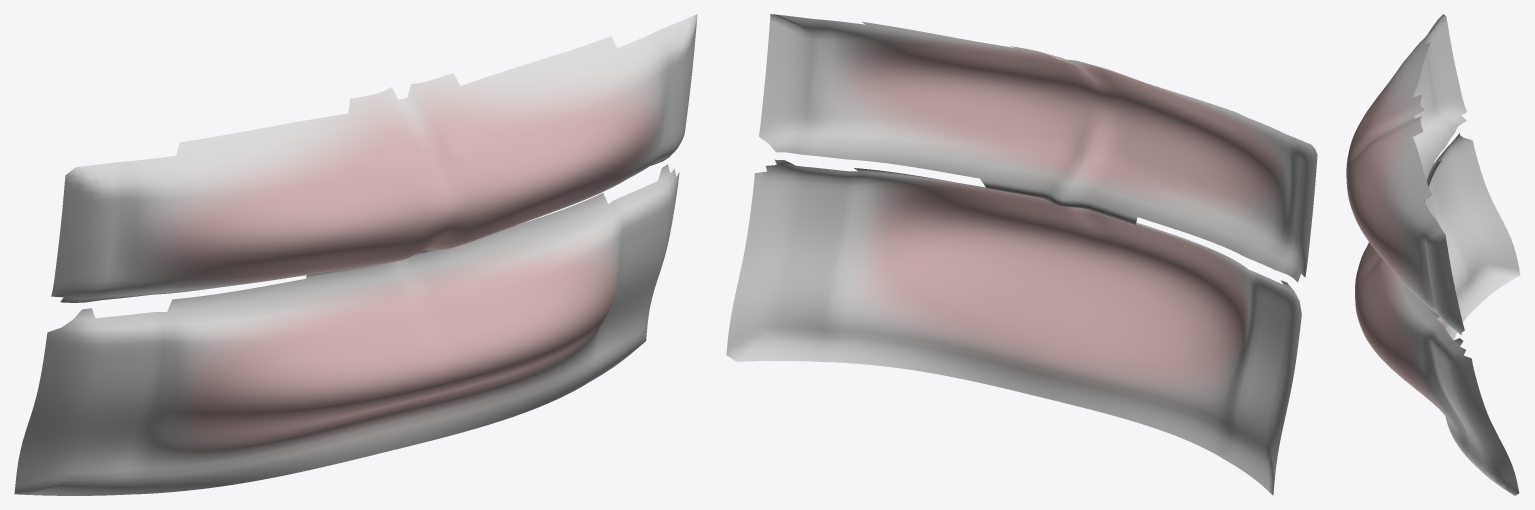
The model's file is levres_homme.glb.
3 renders of one model, left to right at view 1: azimuth 30°, elevation 25°; view 2: azimuth 150°, elevation 25°; view 3: azimuth 270°, elevation 25°, orthographic. The views are drawn at different scales.
Visible parts, largest first — view 1: levres_homme; view 2: levres_homme; view 3: levres_homme.
Boxes of the visible parts, x1,y1,x2,y2 form: levres_homme: (14,14,697,495); levres_homme: (726,14,1317,495); levres_homme: (1346,14,1520,495).
Bounding box in the file's own units: 0.055 × 0.0316 × 0.0181.
